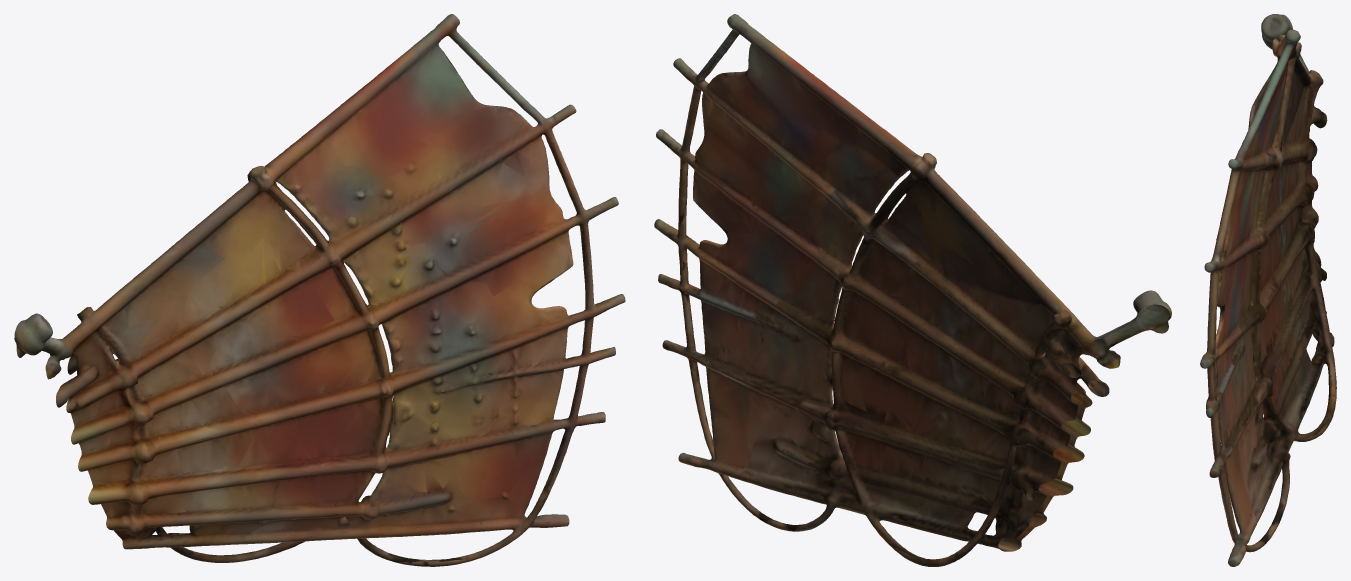
The model's file is ala2.obj.
The picture shows the model from 3 angles, left to right: view 1: azimuth 30°, elevation 25°; view 2: azimuth 150°, elevation 25°; view 3: azimuth 270°, elevation 25°; orthographic projection. The views are drawn at different scales.
Parts seen in each view (by area): view 1: nave.001_Material.002; view 2: nave.001_Material.002; view 3: nave.001_Material.002.
Part boxes in pixels (x1,y1,x2,y2): nave.001_Material.002: (14,14,625,566); nave.001_Material.002: (654,14,1171,566); nave.001_Material.002: (1200,14,1336,566).
Bounding box in the file's own units: 0.8188 × 0.7304 × 0.173.
